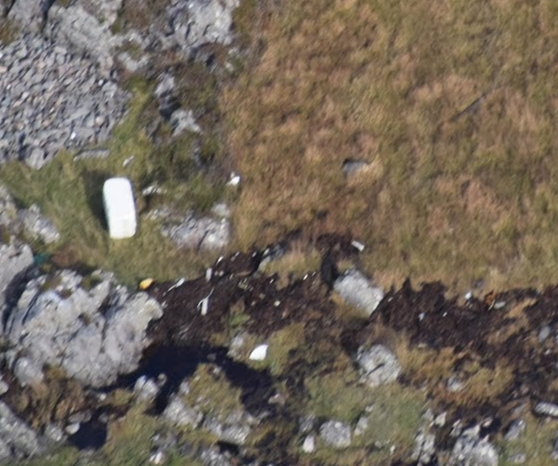scattered_barrel: (132, 261, 277, 369)
white_in_green: (56, 150, 185, 267)
